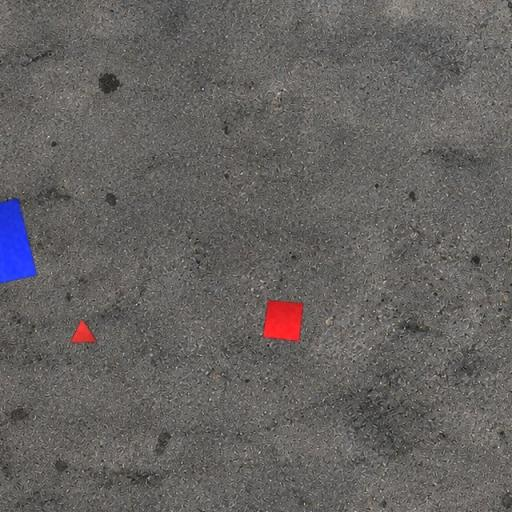BLUE_SQUARE: (0, 198, 38, 290)
RED_SQUARE: (262, 300, 304, 342)
